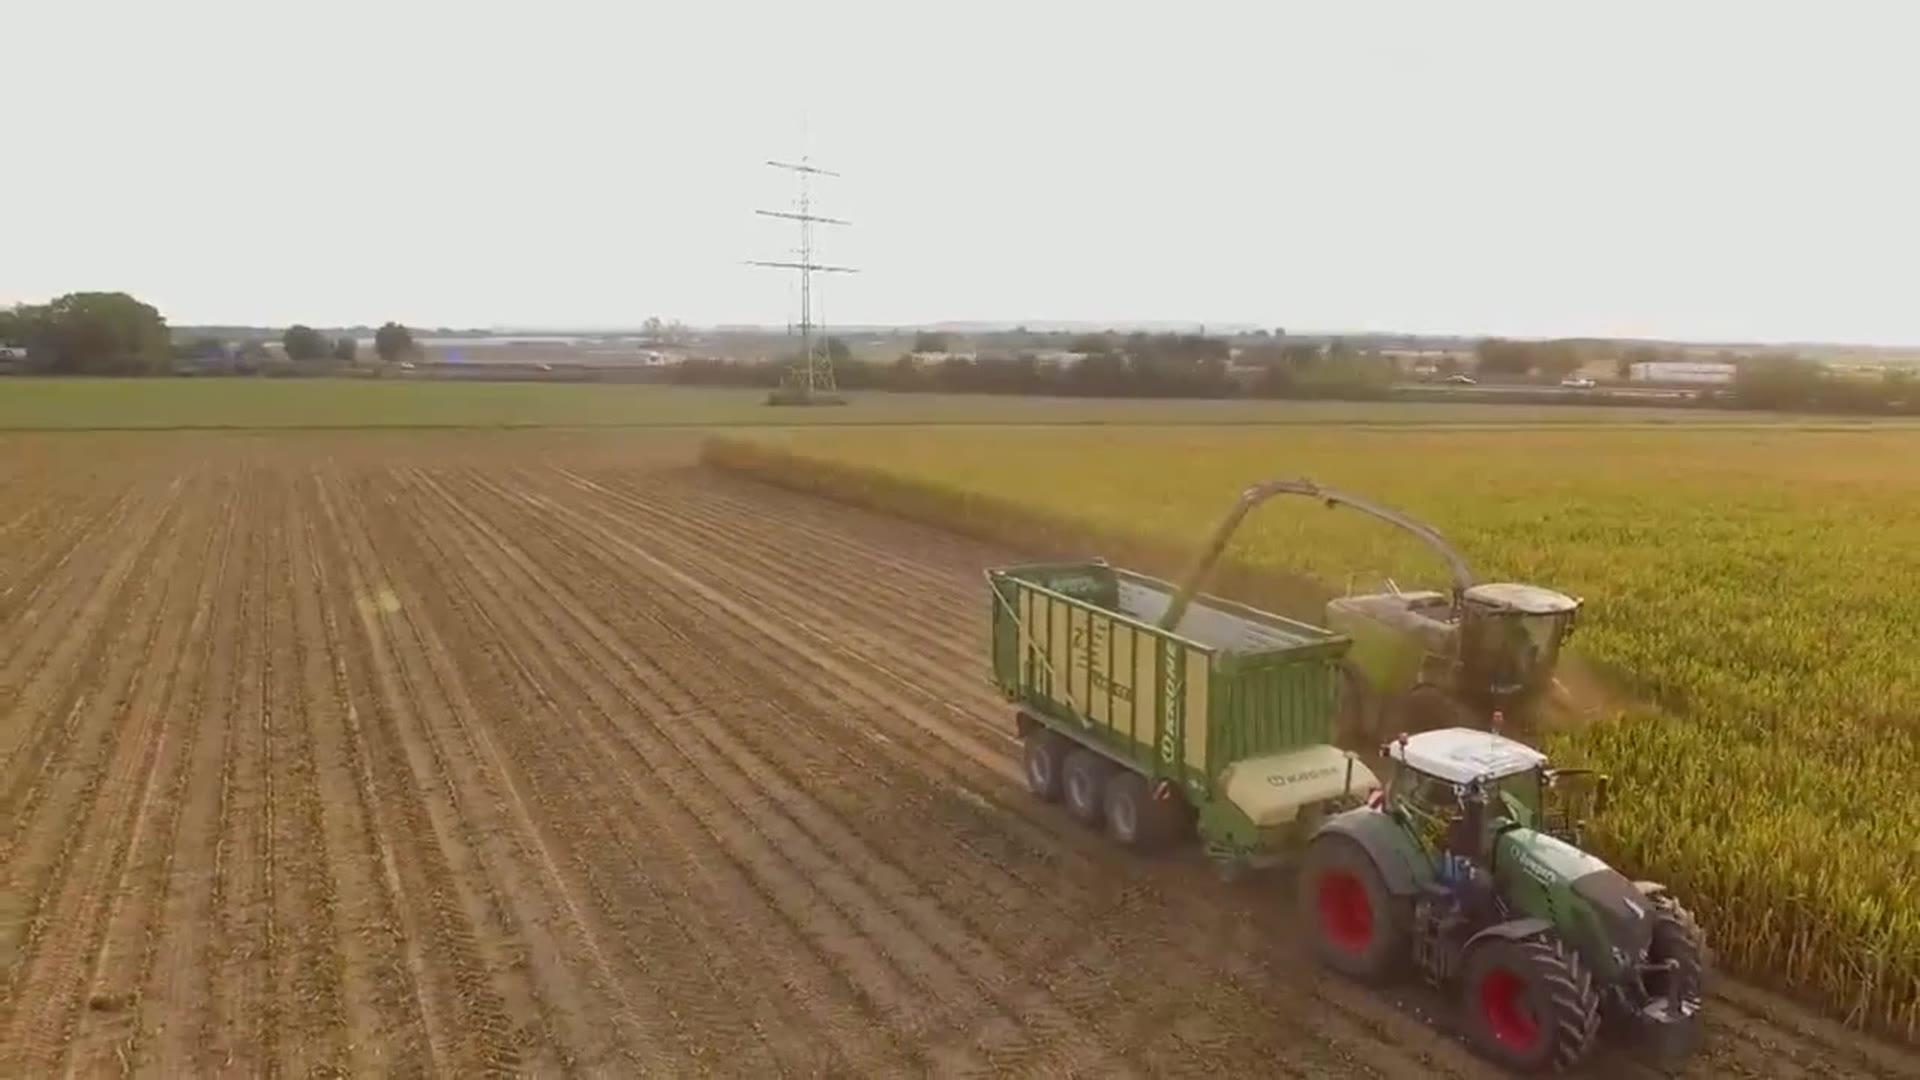combine harvester: (1234, 468, 1631, 774)
tractor: (1287, 721, 1718, 1080)
trailer: (976, 550, 1389, 890)
